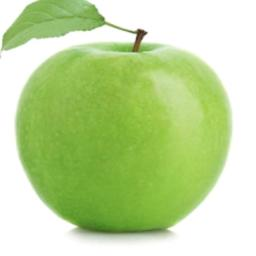Apple Fresh: (6, 12, 255, 237)
